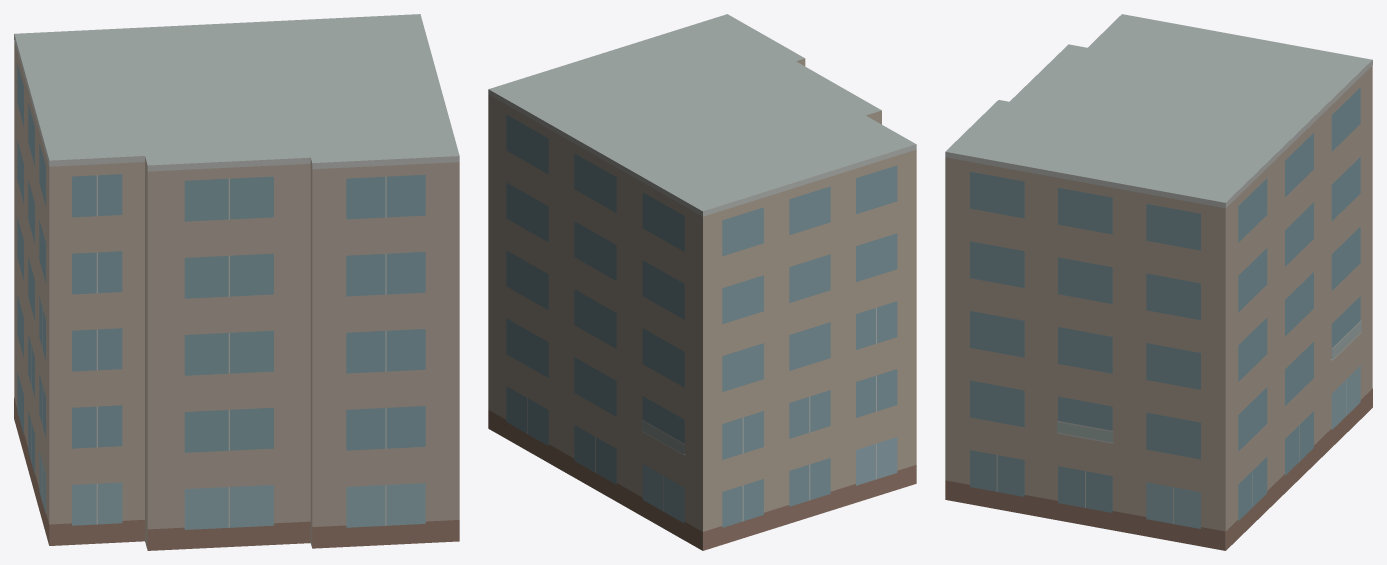
Rendered from survey-upis-32588306.glb.
The picture shows the model from 3 angles, left to right: view 1: azimuth 30°, elevation 25°; view 2: azimuth 150°, elevation 25°; view 3: azimuth 270°, elevation 25°; orthographic projection. The views are drawn at different scales.
Parts seen in each view (by area): view 1: survey-upis-32588306.tmp; view 2: survey-upis-32588306.tmp; view 3: survey-upis-32588306.tmp.
Boxes of the visible parts, <box> form: survey-upis-32588306.tmp: <box>14,14,459,550</box>; survey-upis-32588306.tmp: <box>488,14,916,550</box>; survey-upis-32588306.tmp: <box>945,14,1372,550</box>.
Bounding box in the file's own units: 18.05 × 15.5 × 17.26.
